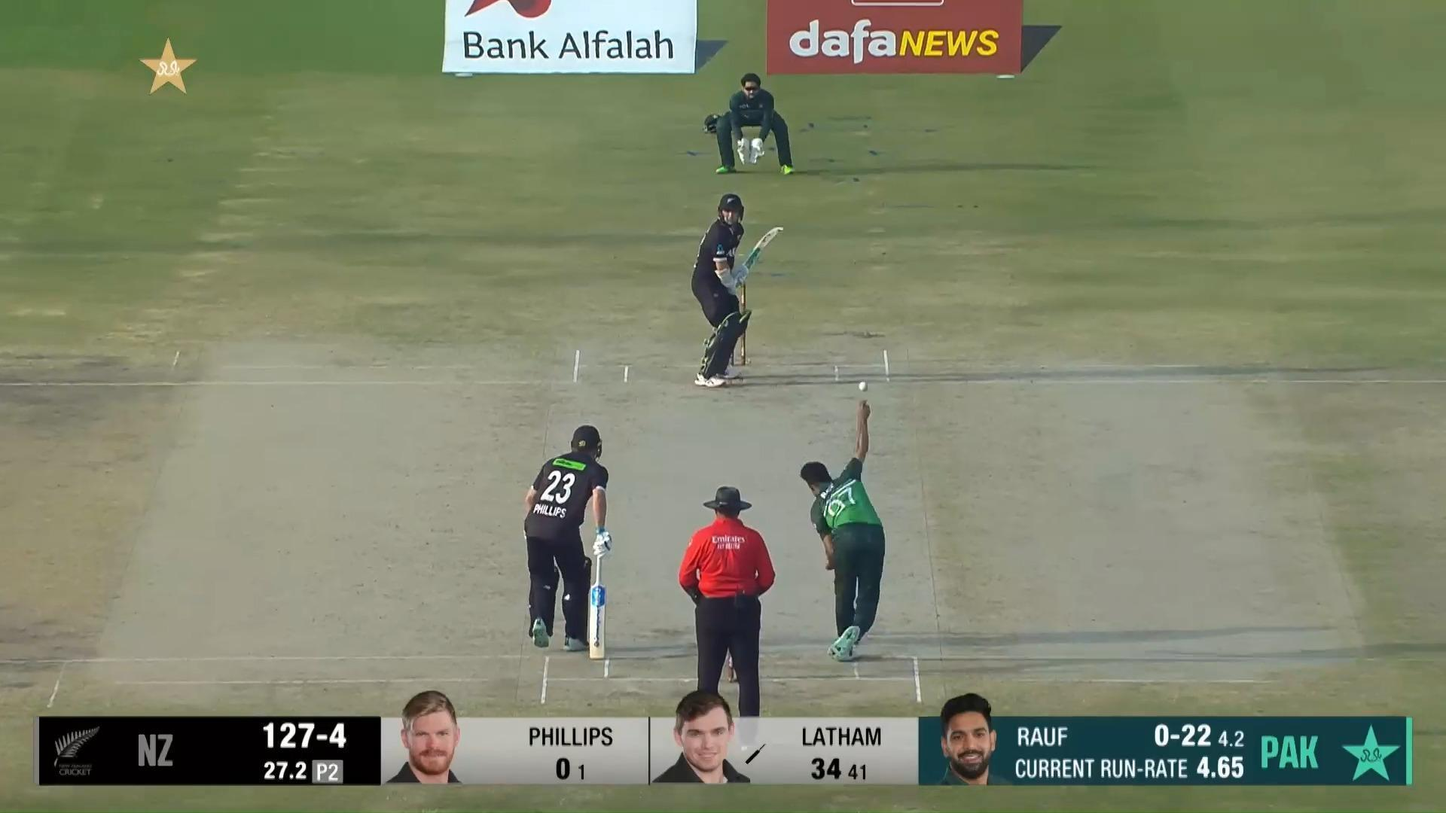BM 1: (691, 193, 783, 388)
BO: (799, 394, 888, 661)
